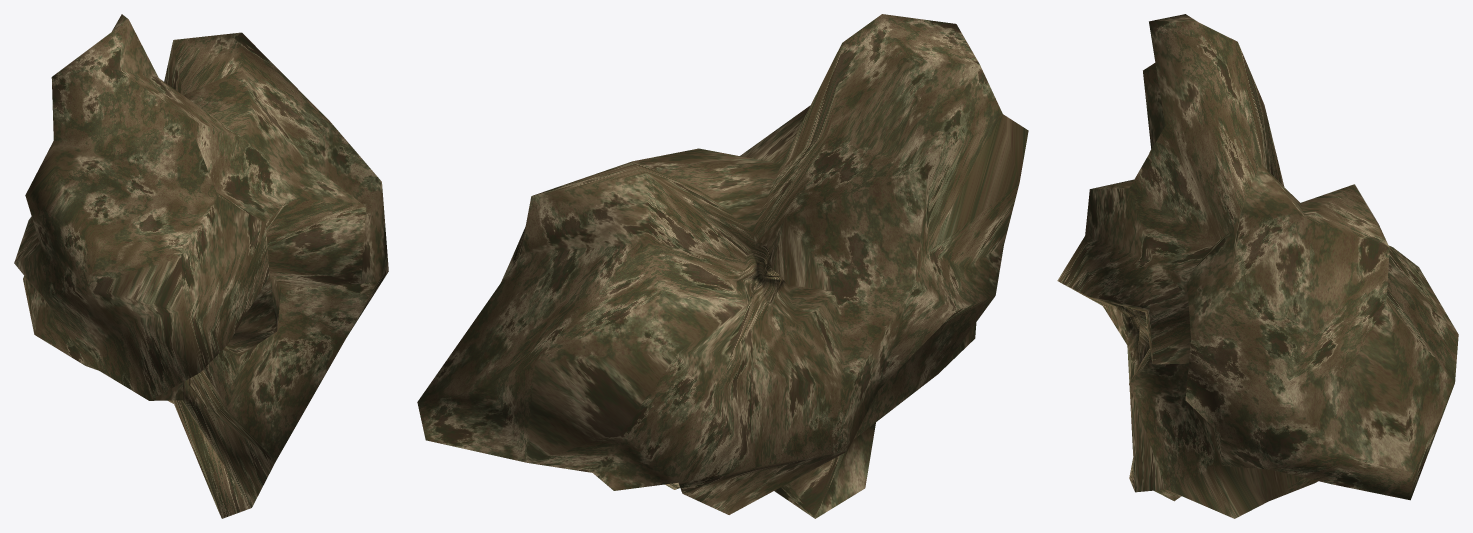
The model's file is asteroid5.obj.
3 views of the same model, side by side, from view 1: azimuth 30°, elevation 25°; view 2: azimuth 150°, elevation 25°; view 3: azimuth 270°, elevation 25° (orthographic). The views are drawn at different scales.
Parts seen in each view (by area): view 1: asteroid_5; view 2: asteroid_5; view 3: asteroid_5.
Part boxes in pixels (bbox=[...]): asteroid_5: bbox=[14, 14, 388, 518]; asteroid_5: bbox=[417, 14, 1028, 518]; asteroid_5: bbox=[1057, 14, 1458, 518].
Size of the model in its own units: 2.24 by 2.49 by 2.03.
Materials: 1 (1 with a texture image).
